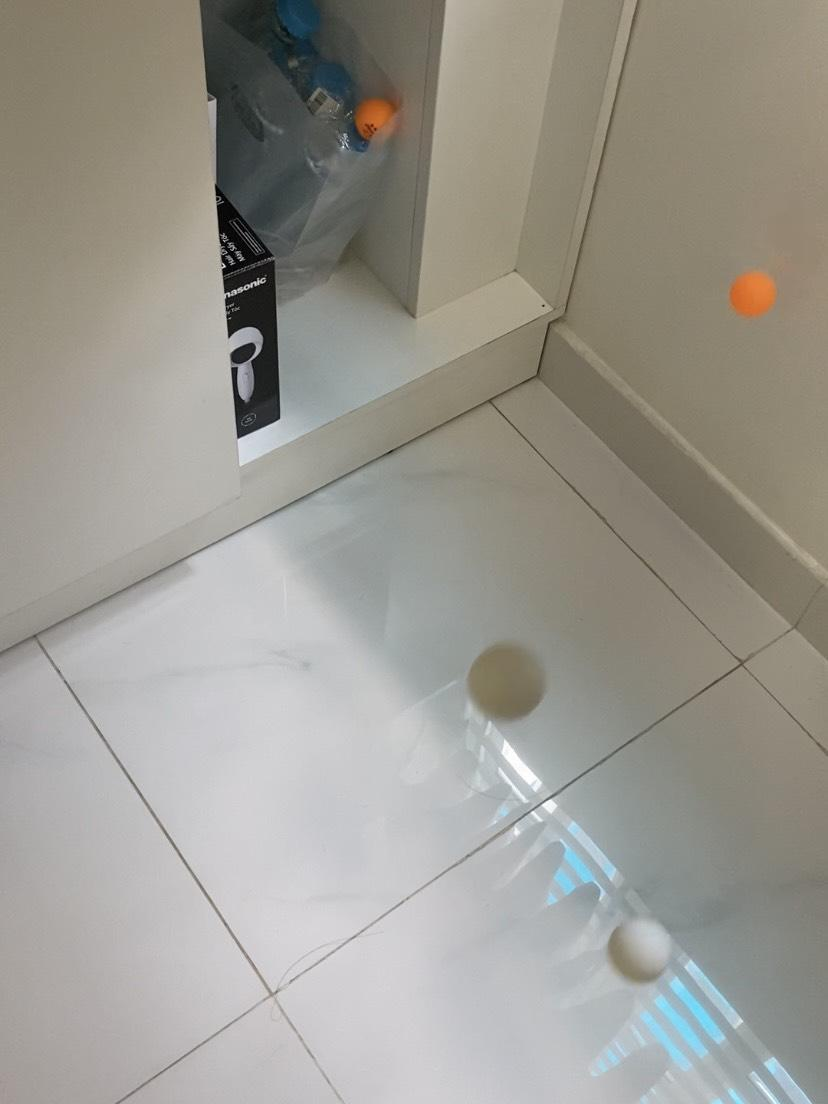oball: (730, 268, 775, 317), (357, 98, 400, 142)
